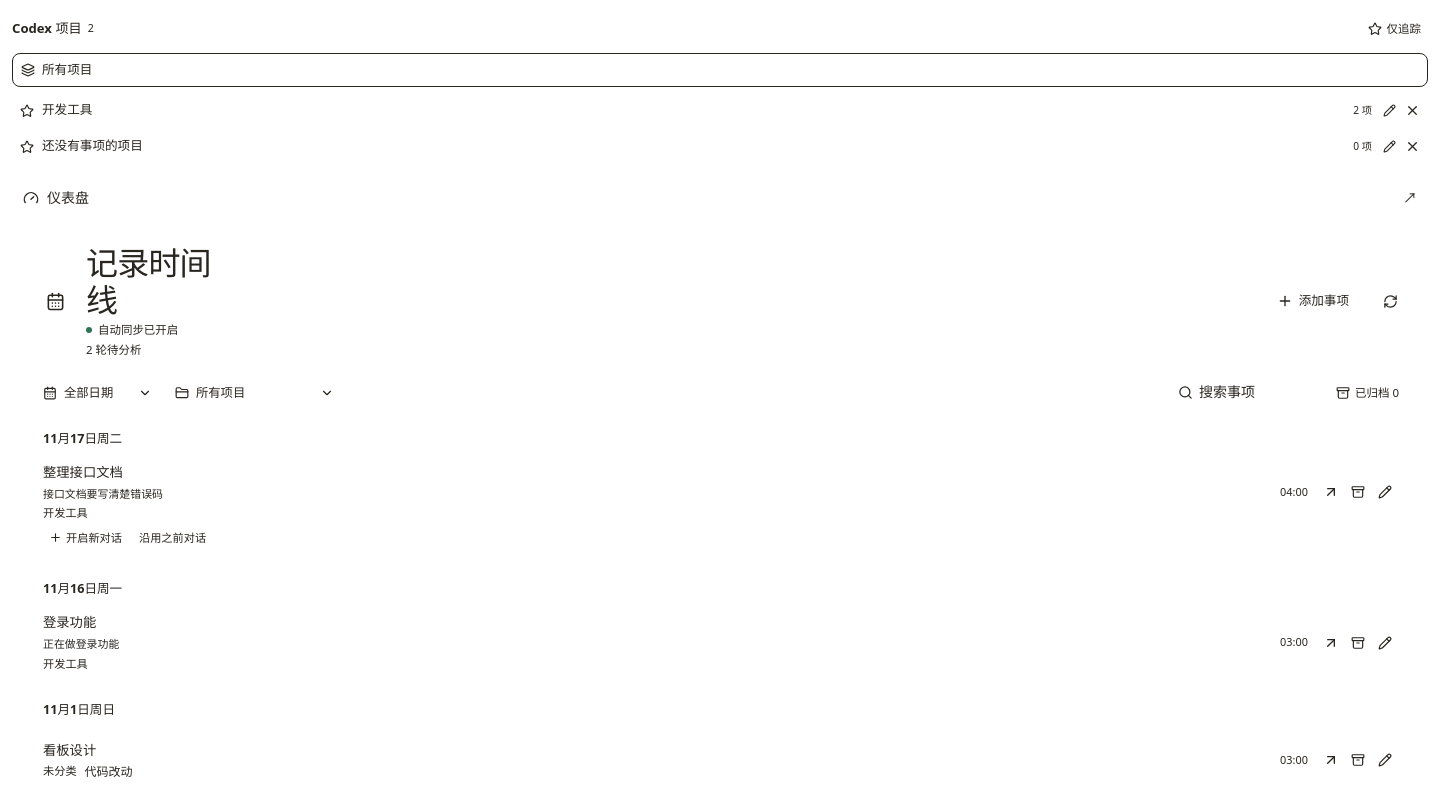
Test: keeps the synced file names in the card details
Click the button with class "ci-task-open" showing "看板设计" at (70, 750), box [43,741,1066,760]
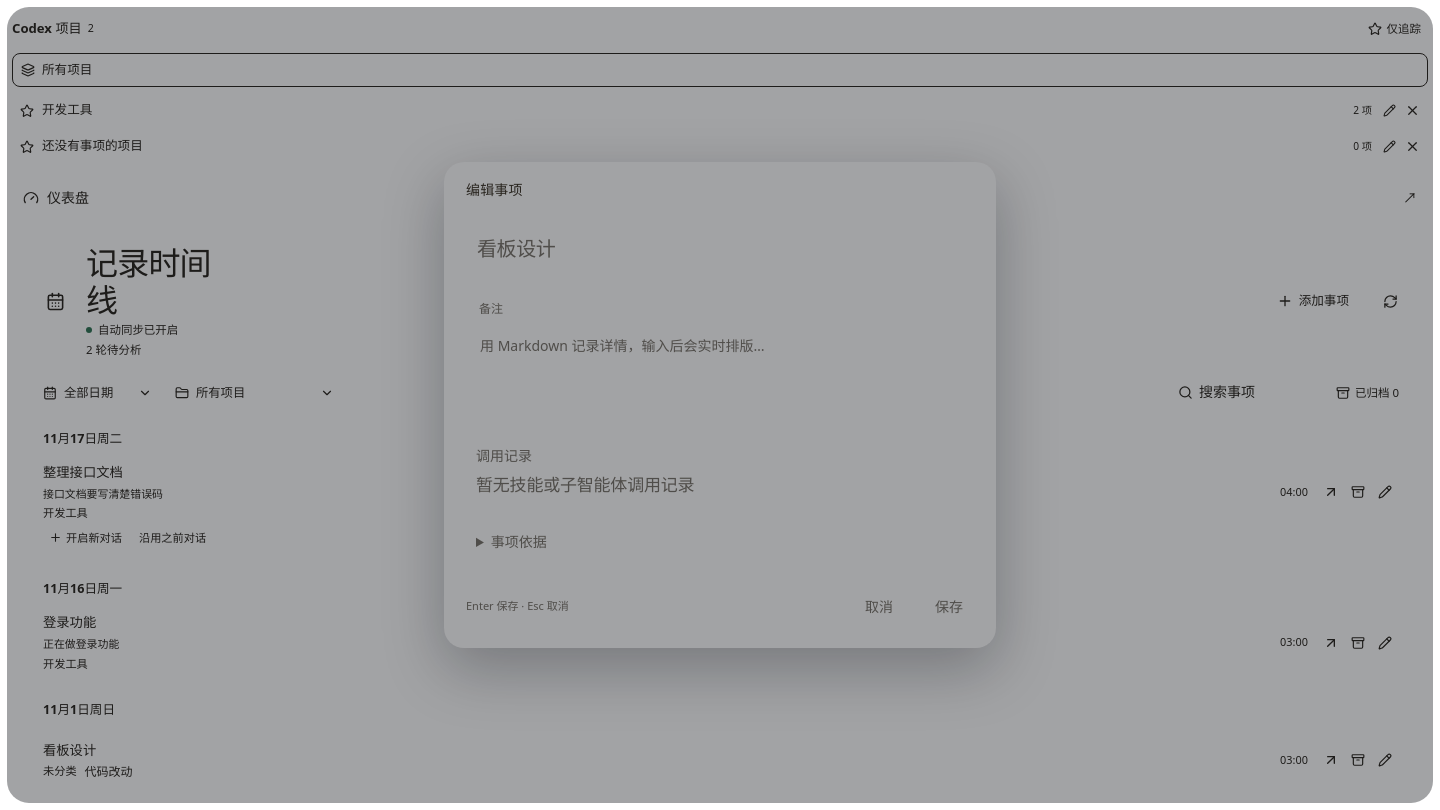
Click the heading "事项依据" at (519, 541), box [491,532,547,551]
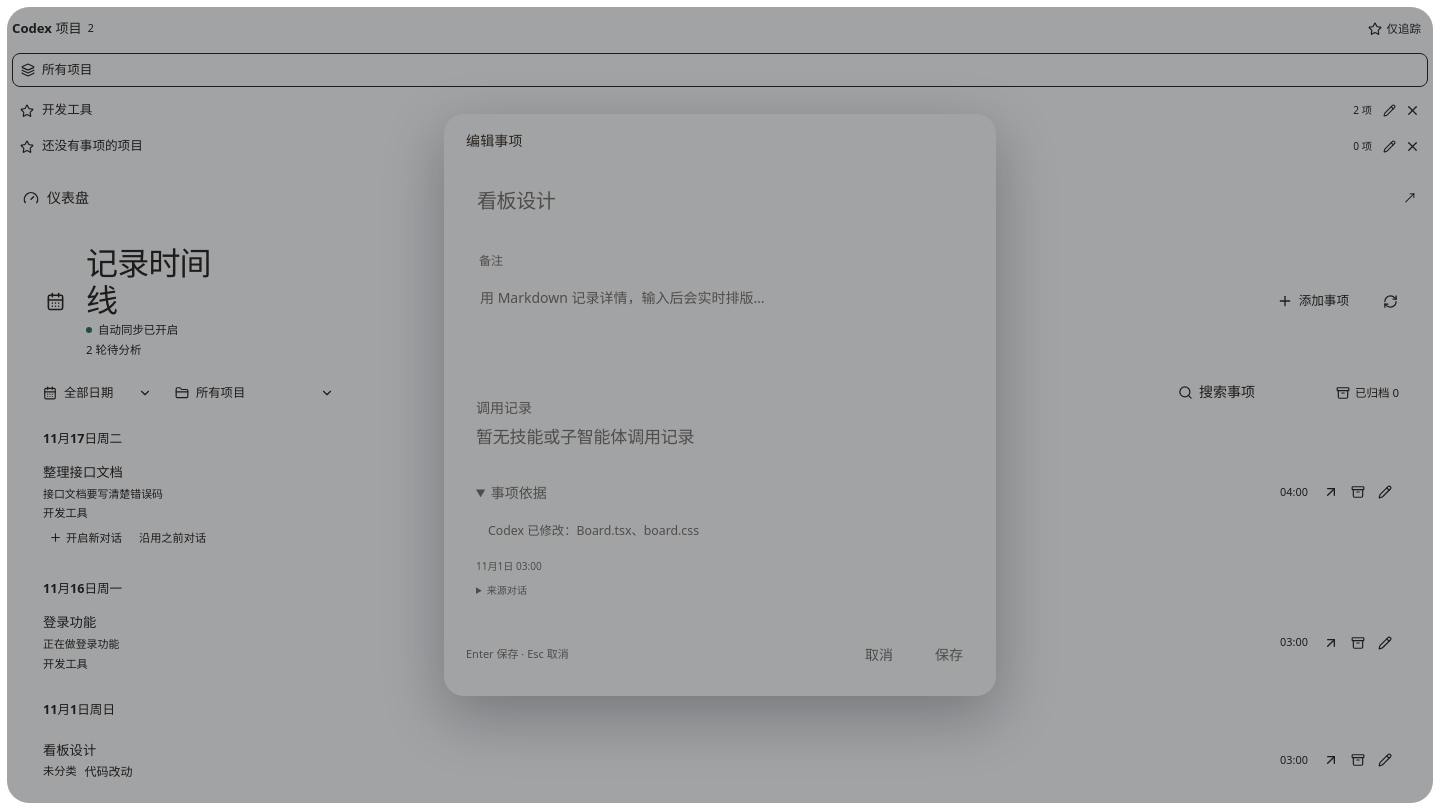
Check: the text "Codex 已修改：Board.tsx、board.css" is shown, box [488,522,699,539]
